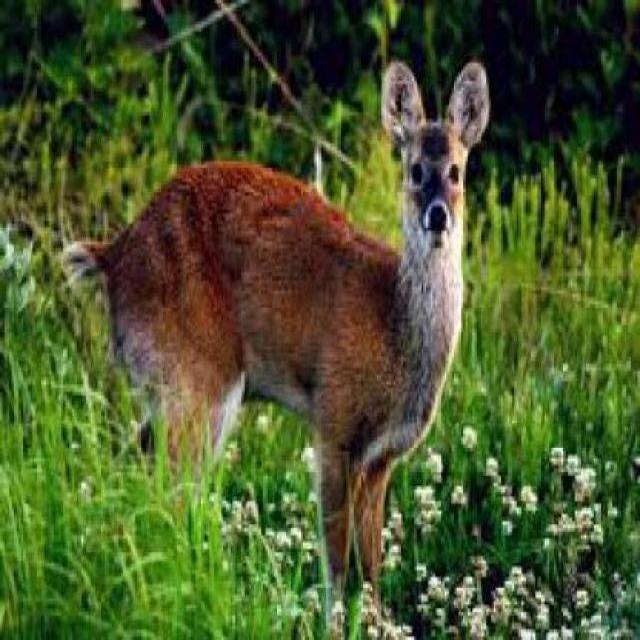deer: (51, 40, 503, 611)
